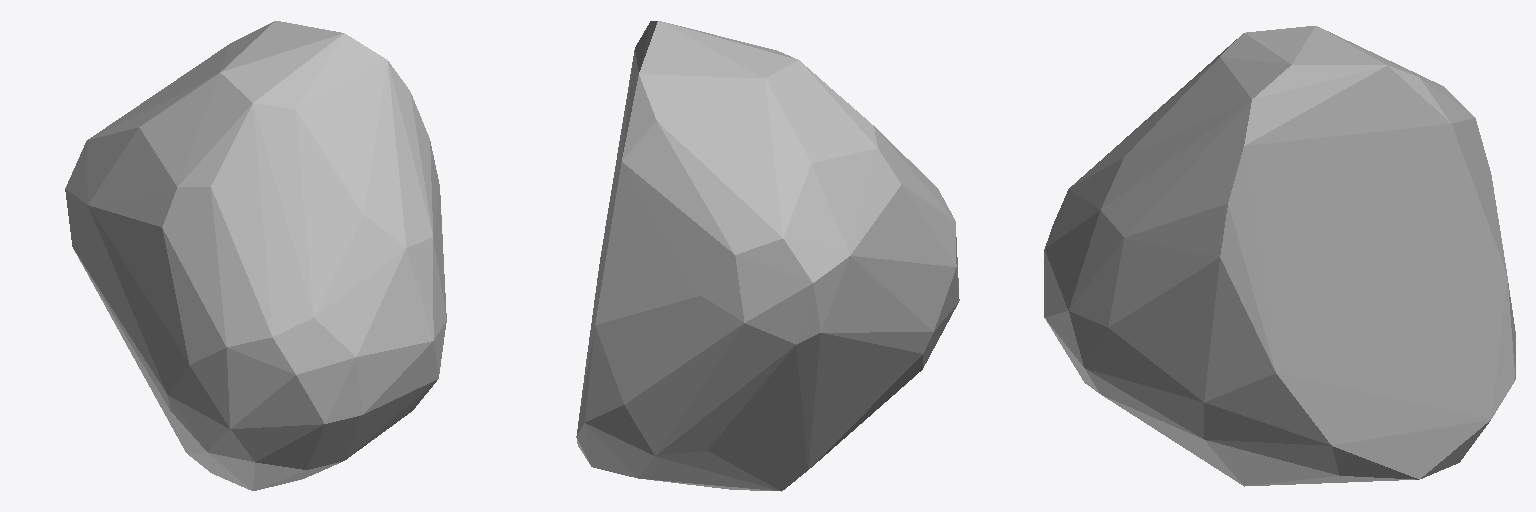
The robot description file, URDF, robot "root":
<robot name="root">
  <link name="link_climbing_hold_convex_piece_0">
    <inertial>
      <origin rpy="0 0 0" xyz="0 0 0"/>
      <mass value="-2.81E-04"/>
      <inertia ixx="-2.68E-07" ixy="-6.92E-10" ixz="-9.20E-10" iyy="-2.19E-07" iyz="-6.33E-09" izz="-2.06E-07"/>
    </inertial>
    <visual>
      <origin rpy="0 0 0" xyz="0 0 0"/>
      <geometry>
        <mesh filename="climbing_hold_convex_piece_0.obj" scale="1.0000E+00"/>
      </geometry>
      <material name="">
        <color rgba="7.50E-01 7.50E-01 7.50E-01 1"/>
      </material>
    </visual>
    <collision>
      <origin rpy="0 0 0" xyz="0 0 0"/>
      <geometry>
        <mesh filename="climbing_hold_convex_piece_0.obj" scale="1.0000E+00"/>
      </geometry>
    </collision>
  </link>
</robot>

--- What the picture shows (computed from the rendered views, not written in the file) ---
3 views of the same robot in one strip: view 1: azimuth 30°, elevation 25°; view 2: azimuth 150°, elevation 25°; view 3: azimuth 270°, elevation 25° (orthographic).
Model root with 1 links and 0 joints (none), rooted at link_climbing_hold_convex_piece_0, posed all joints at 0.
Links seen in each view (by area): view 1: link_climbing_hold_convex_piece_0; view 2: link_climbing_hold_convex_piece_0; view 3: link_climbing_hold_convex_piece_0.
Boxes of the visible links, <box> form: link_climbing_hold_convex_piece_0: <box>65,21,446,490</box>; link_climbing_hold_convex_piece_0: <box>576,21,959,491</box>; link_climbing_hold_convex_piece_0: <box>1044,26,1515,486</box>.
Size in the robot's own frame: 0.0735 by 0.0964 by 0.1045 metres.
Meshes: 1 distinct files referenced, 1 mesh visuals loaded (1 OBJ).